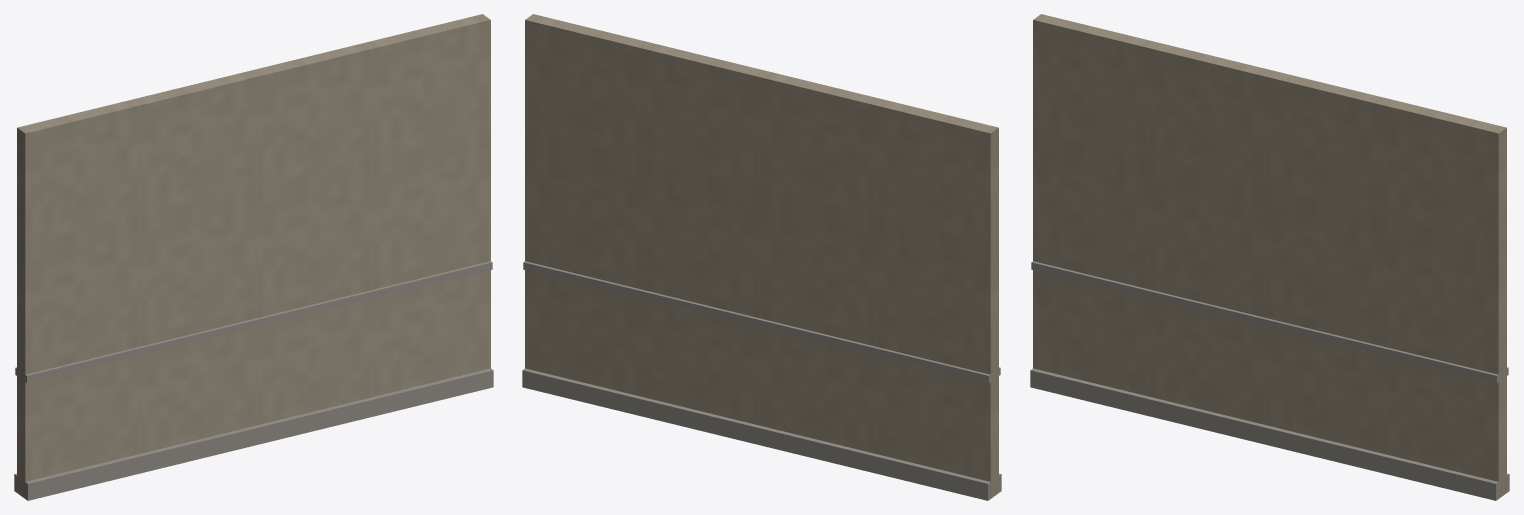
File: wall_4x3.glb
The picture shows the model from 3 angles, left to right: view 1: azimuth 30°, elevation 25°; view 2: azimuth 150°, elevation 25°; view 3: azimuth 330°, elevation 25°; orthographic projection.
Parts seen in each view (by area): view 1: Wall4x3; view 2: Wall4x3; view 3: Wall4x3.
Part boxes in pixels (x1,y1,x2,y2): Wall4x3: (14,14,493,500); Wall4x3: (522,14,1001,500); Wall4x3: (1030,14,1509,500).
Bounding box in the file's own units: 4 × 3 × 0.2.
Materials: 2 (1 with a texture image).
